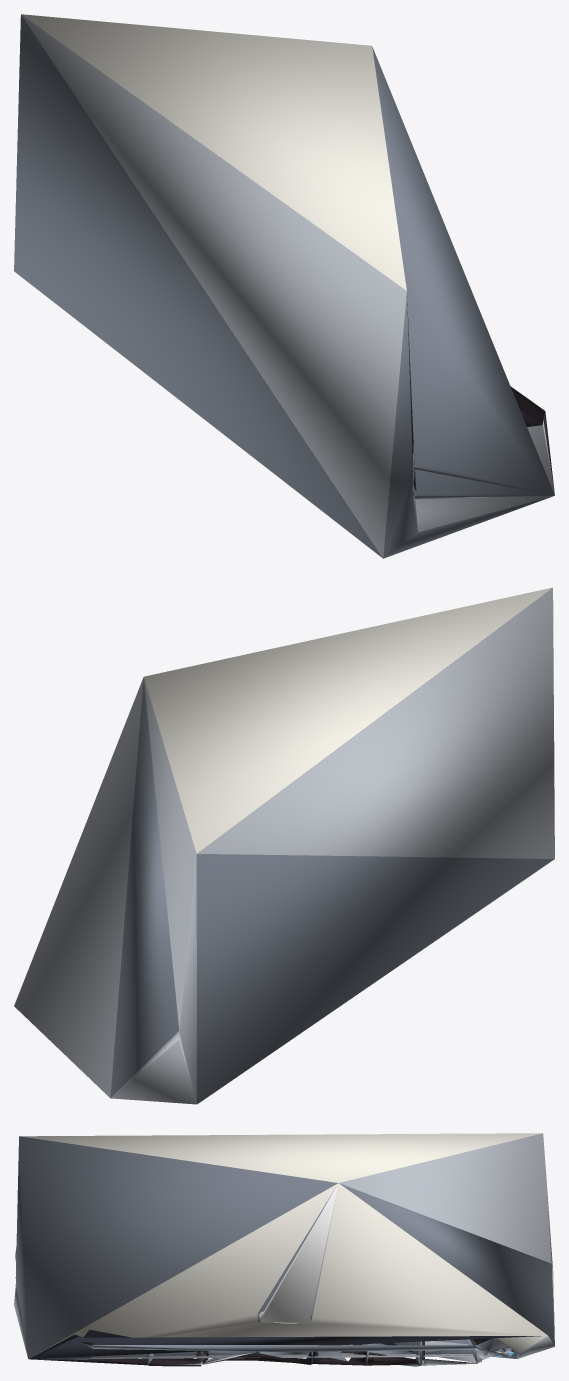
File: SM_ac_indoor_unit.glb
3 views of the same model, one above another, from view 1: azimuth 30°, elevation 25°; view 2: azimuth 150°, elevation 25°; view 3: azimuth 270°, elevation 25° (orthographic). The views are drawn at different scales.
Visible parts, largest first — view 1: SM_ac_indoor_unit; view 2: SM_ac_indoor_unit; view 3: SM_ac_indoor_unit.
Part boxes in pixels (<box>): SM_ac_indoor_unit: <box>14,14,554,558</box>; SM_ac_indoor_unit: <box>14,587,554,1104</box>; SM_ac_indoor_unit: <box>14,1133,554,1366</box>.
Size of the model in its own units: 0.2937 by 0.4 by 0.9436.
1 material, 1 textured.
